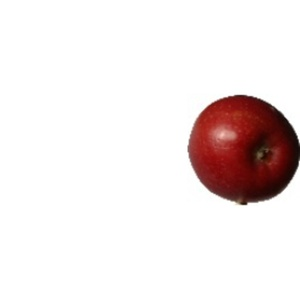maçã braeburn: (186, 92, 300, 200)
